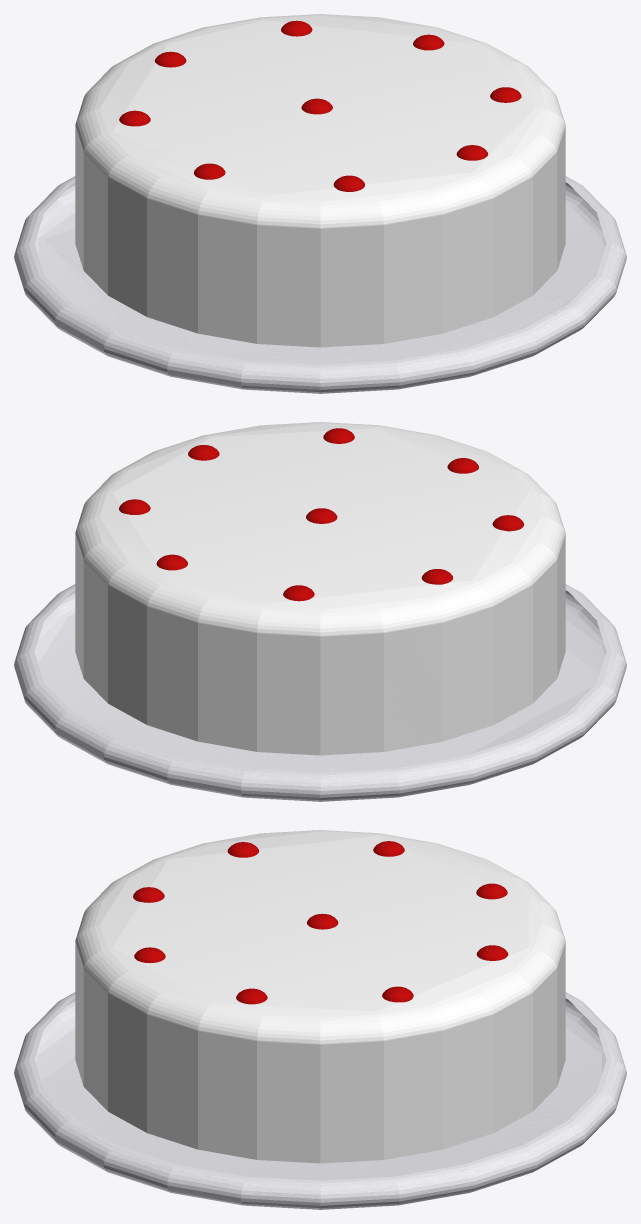
File: torta-1.glb
3 views of the same model, one above another, from view 1: azimuth 30°, elevation 25°; view 2: azimuth 150°, elevation 25°; view 3: azimuth 270°, elevation 25° (orthographic).
Parts seen in each view (by area): view 1: SketchUp, SketchUp.002, SketchUp.003; view 2: SketchUp, SketchUp.002, SketchUp.003; view 3: SketchUp, SketchUp.002, SketchUp.003.
Part boxes in pixels (<box>): SketchUp: <box>75,14,565,347</box>; SketchUp.002: <box>14,176,626,393</box>; SketchUp.003: <box>119,20,521,191</box>; SketchUp: <box>75,422,565,755</box>; SketchUp.002: <box>14,584,626,801</box>; SketchUp.003: <box>119,428,524,601</box>; SketchUp: <box>75,830,565,1163</box>; SketchUp.002: <box>14,992,626,1209</box>; SketchUp.003: <box>133,841,508,1004</box>.
Bounding box in the file's own units: 0.2462 × 0.0751 × 0.2462.
3 materials, 1 textured.
